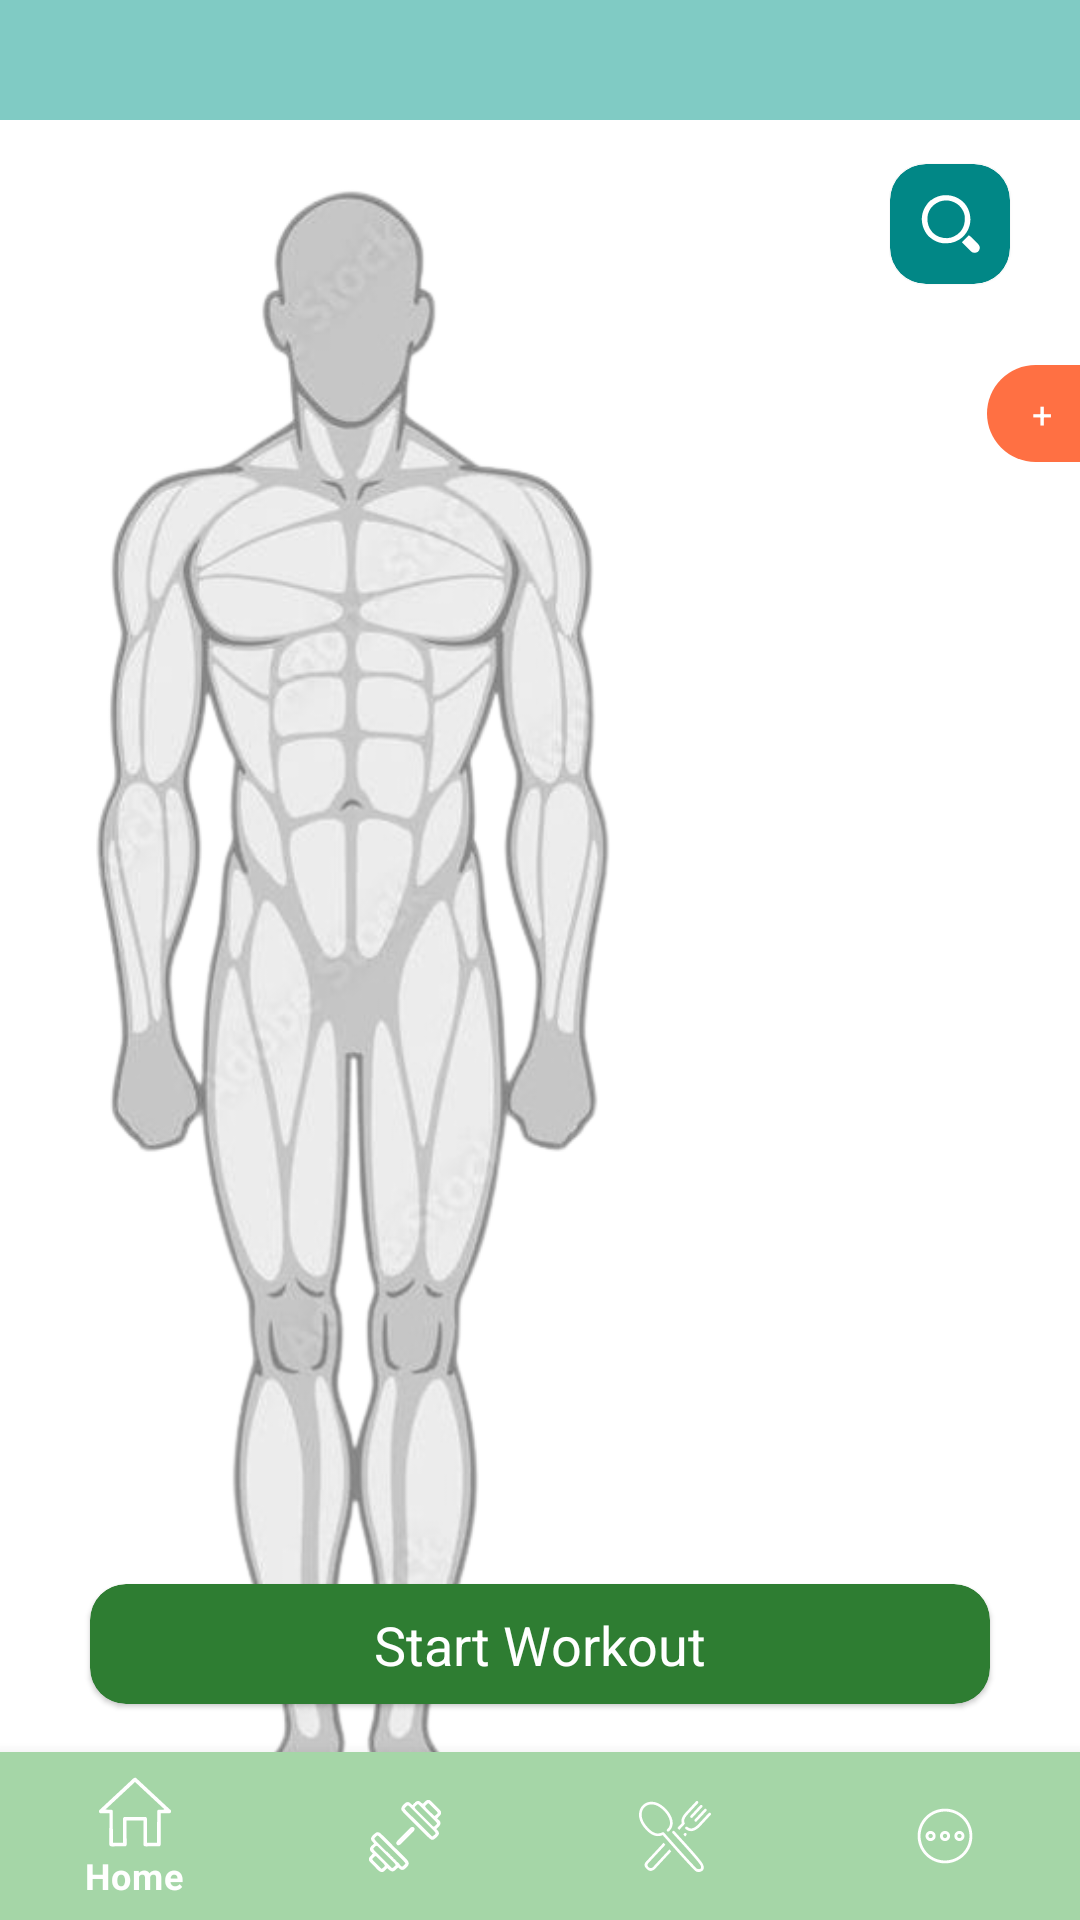

Named icons in this screenshot (1080 x 1920) and their centers, (x,y):
Search icon: (950,224)
